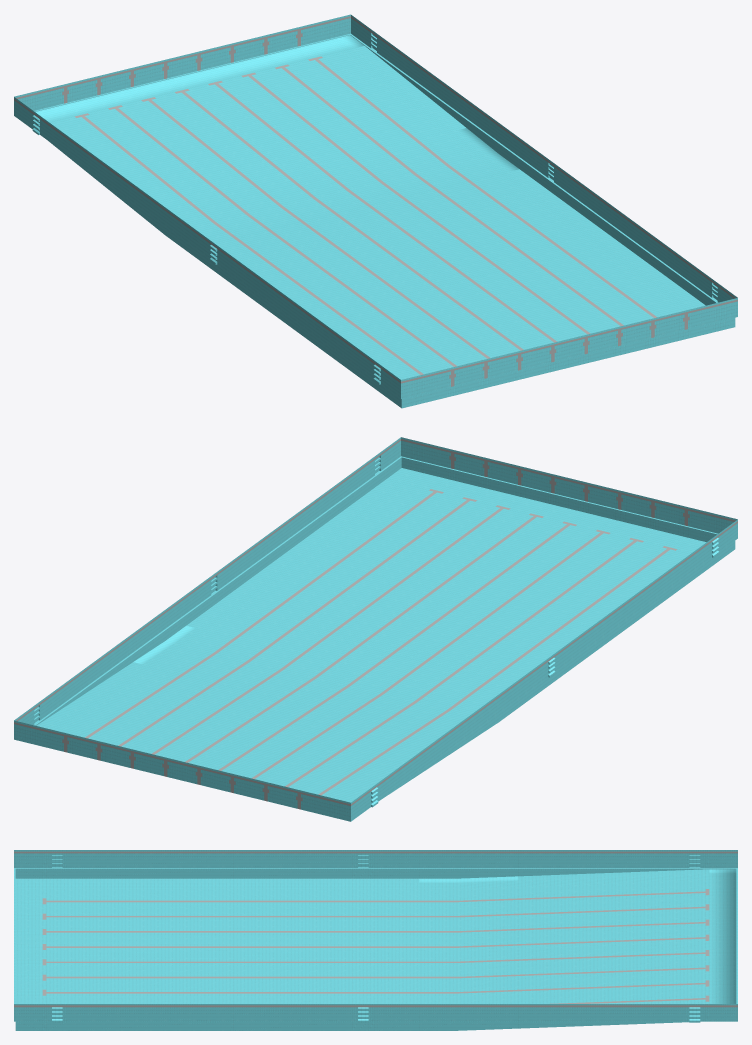
File: pool.dae
3 renders of one model, top to bottom at view 1: azimuth 30°, elevation 25°; view 2: azimuth 150°, elevation 25°; view 3: azimuth 270°, elevation 25°, orthographic. The views are drawn at different scales.
Parts seen in each view (by area): view 1: havuz.002; view 2: havuz.002; view 3: havuz.002.
Boxes of the visible parts, x1,y1,x2,y2 form: havuz.002: (14, 14, 737, 408); havuz.002: (14, 437, 737, 821); havuz.002: (14, 850, 737, 1030).
Bounding box in the file's own units: 25.47 × 50.25 × 2.12.
2 materials, 1 textured.
